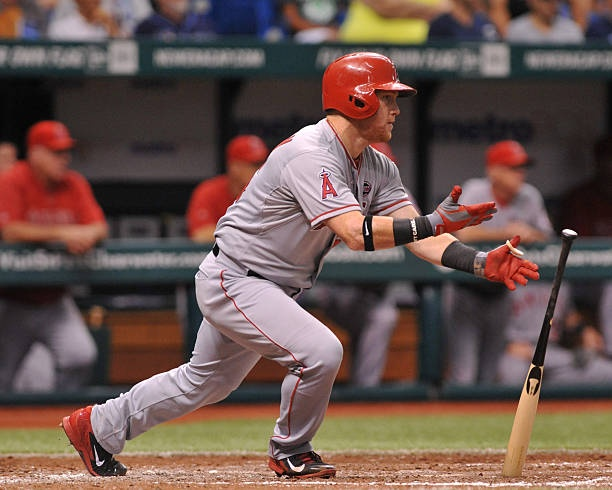bita: (498, 230, 574, 477)
